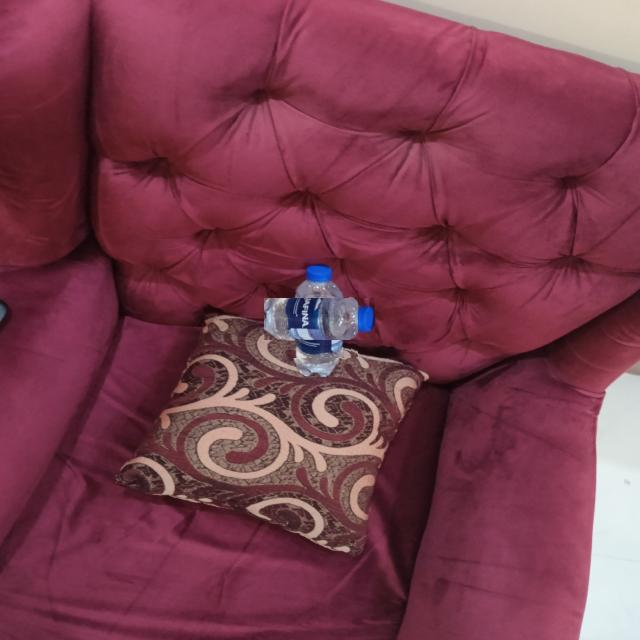Plastic: (280, 280, 358, 358)
